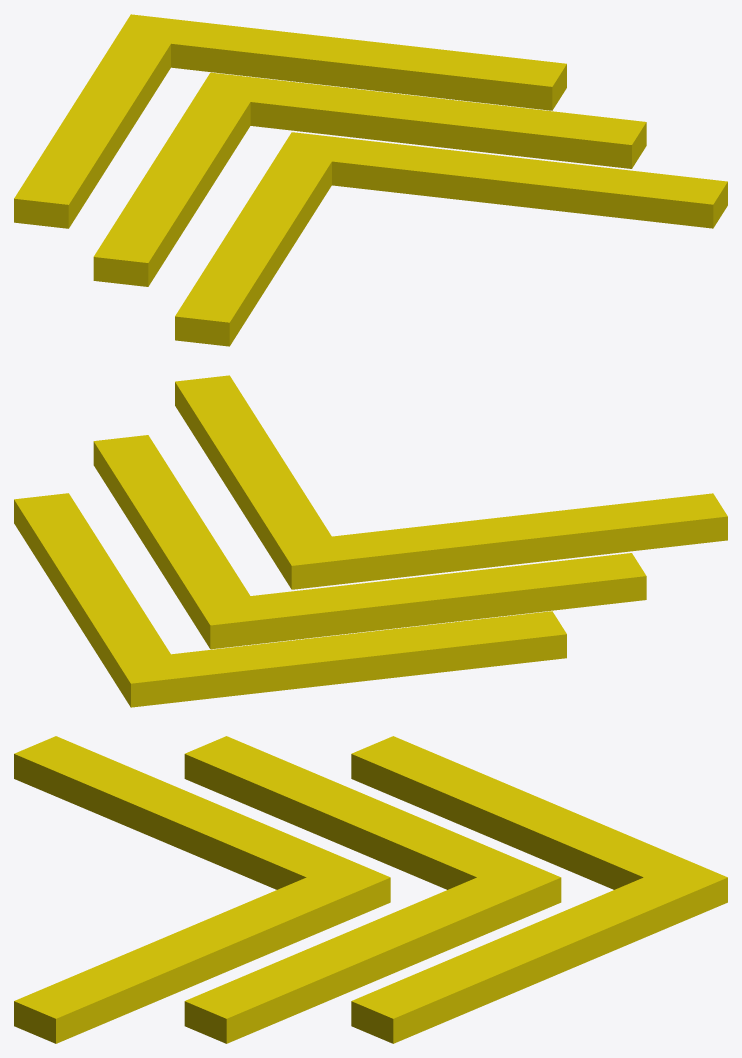
The model's file is UpArrow2.fbx.
The picture shows the model from 3 angles, top to bottom: view 1: azimuth 30°, elevation 25°; view 2: azimuth 150°, elevation 25°; view 3: azimuth 270°, elevation 25°; orthographic projection. The views are drawn at different scales.
Visible parts, largest first — view 1: Cube.017; view 2: Cube.017; view 3: Cube.017.
Boxes of the visible parts, left/top/right/bottom form: Cube.017: left=14, top=14, right=727, bottom=346; Cube.017: left=14, top=375, right=727, bottom=707; Cube.017: left=14, top=736, right=727, bottom=1043.
Size of the model in its own units: 188 by 7.77 by 201.
